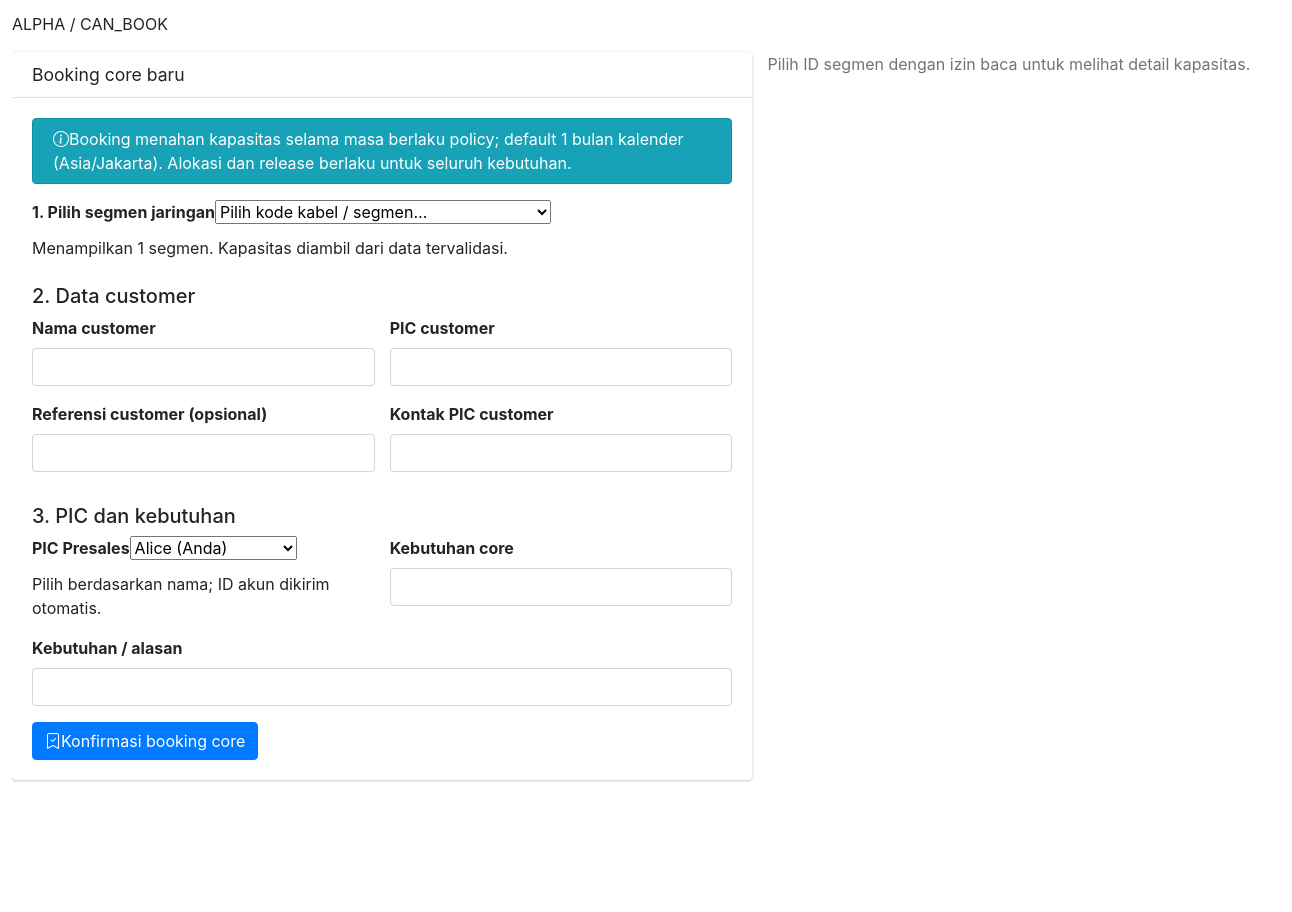
Test: operational API interactions › refreshes core counters after booking and sends the selected Presales PIC
Select "SEG-1 · Imported label · Tersedia: 24 core" in the dropdown labelled "1. Pilih segmen jaringan". click: (383, 212)
box: [215,200,551,224]
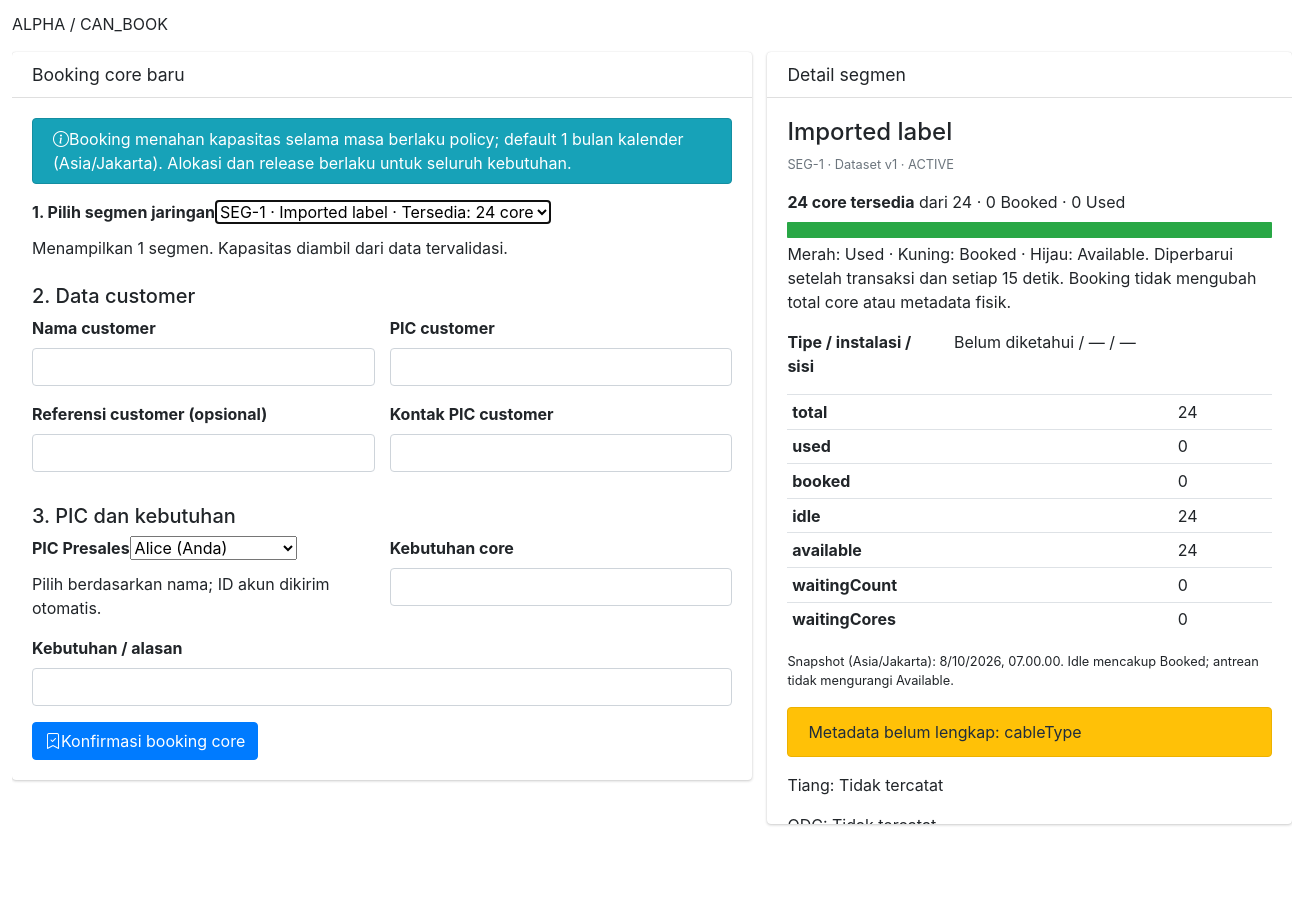
expect the text "24 core tersedia" is shown: met, box [787,192,914,212]
Select "Charlie" in the dropdown labelled "PIC Presales". click: (213, 548)
box: [130,536,297,560]
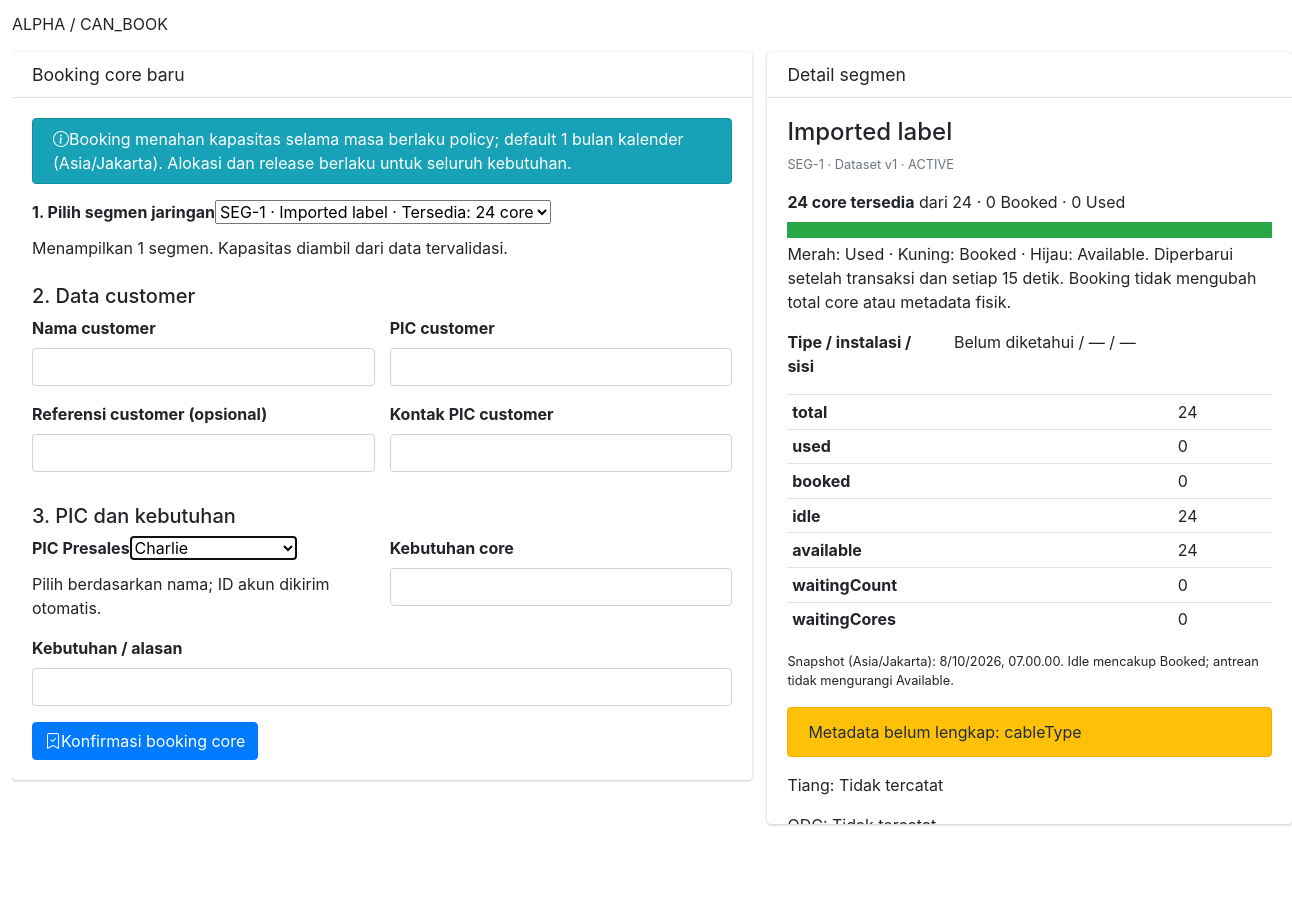
Type "Synthetic test" into the field labelled "Nama customer". click: (203, 367)
box: [32,348,375,386]
Type "Synthetic test" into the field labelled "PIC customer". click: (561, 367)
box: [390,348,732,386]
Type "Synthetic test" into the field labelled "Kontak PIC customer". click: (561, 453)
box: [390,434,732,472]
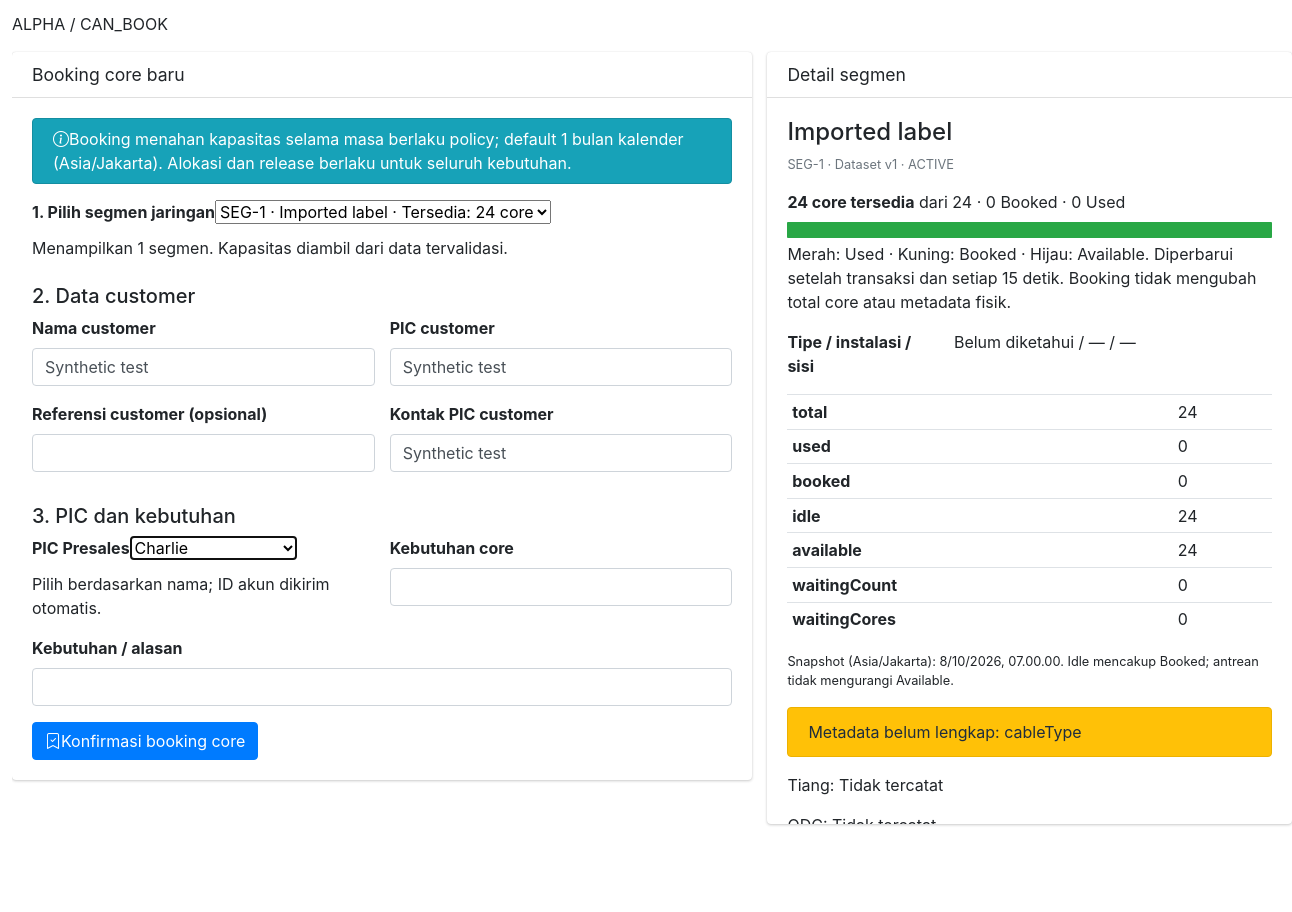
Type "Synthetic test" into the field labelled "Kebutuhan / alasan". click: (382, 687)
box: [32,668,732,706]
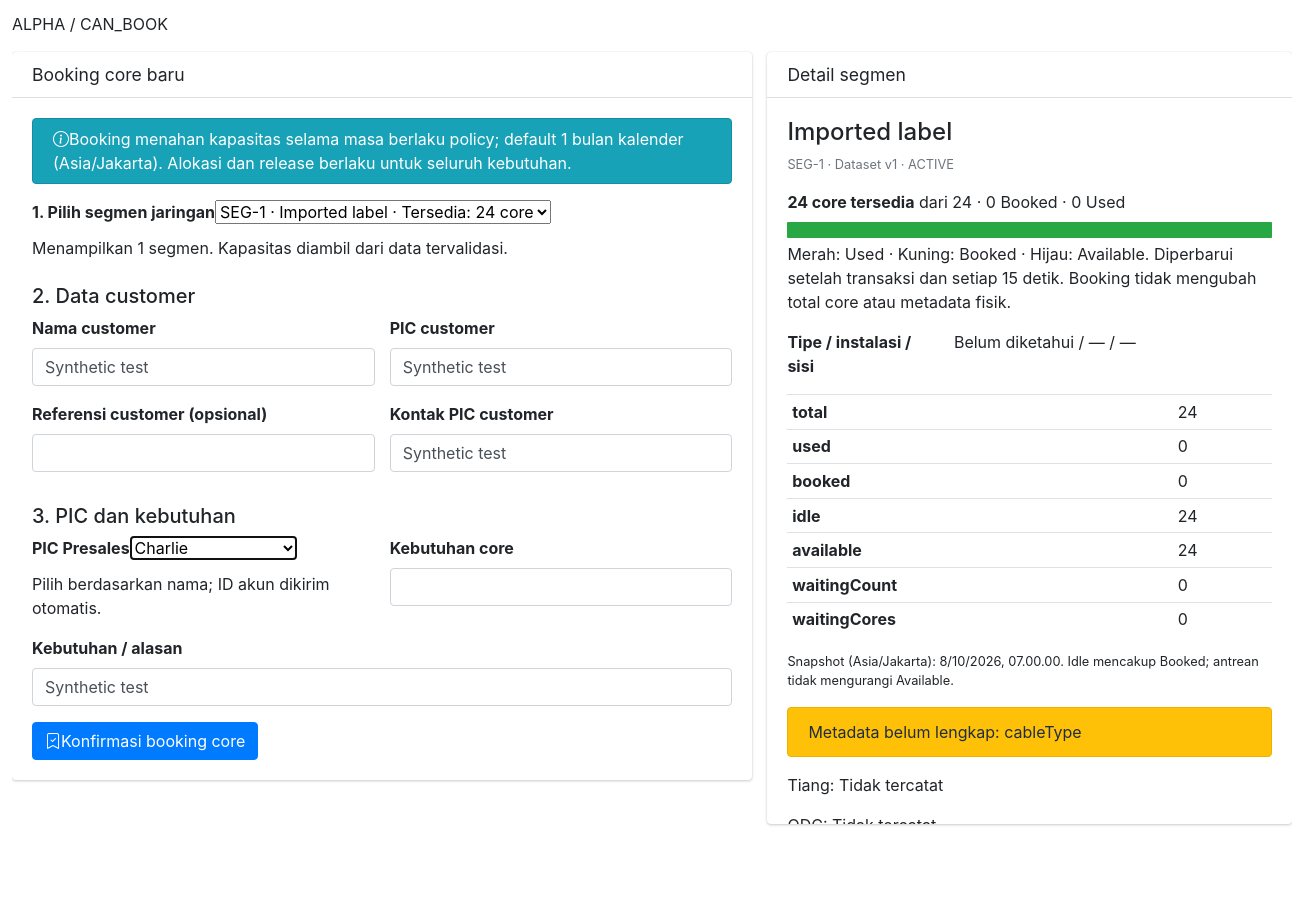
Type "2" into the number field labelled "Kebutuhan core". click: (561, 587)
box: [390,568,732,606]
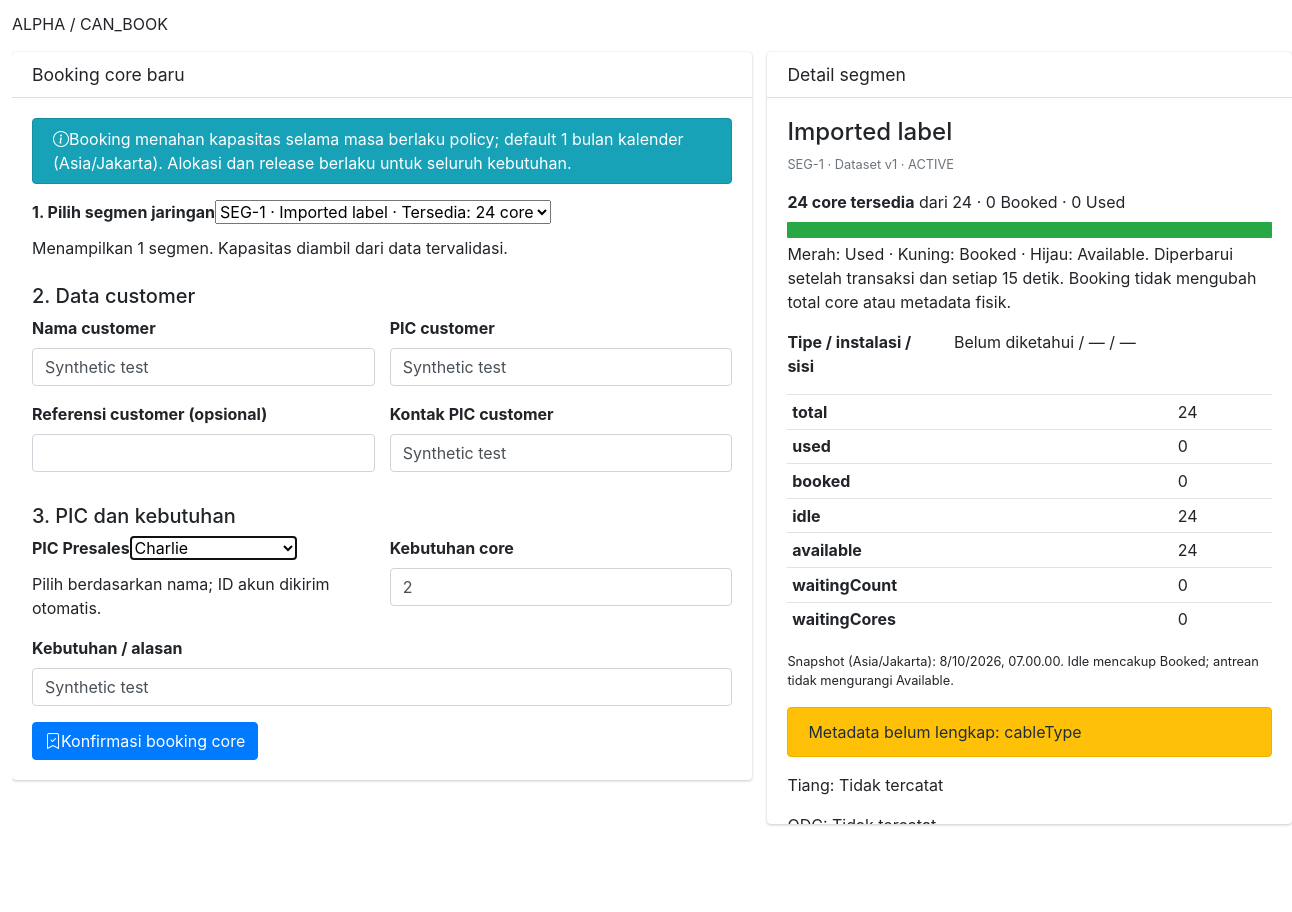
Click the button "Konfirmasi booking core". click: (145, 741)
box: [32,722,258,760]
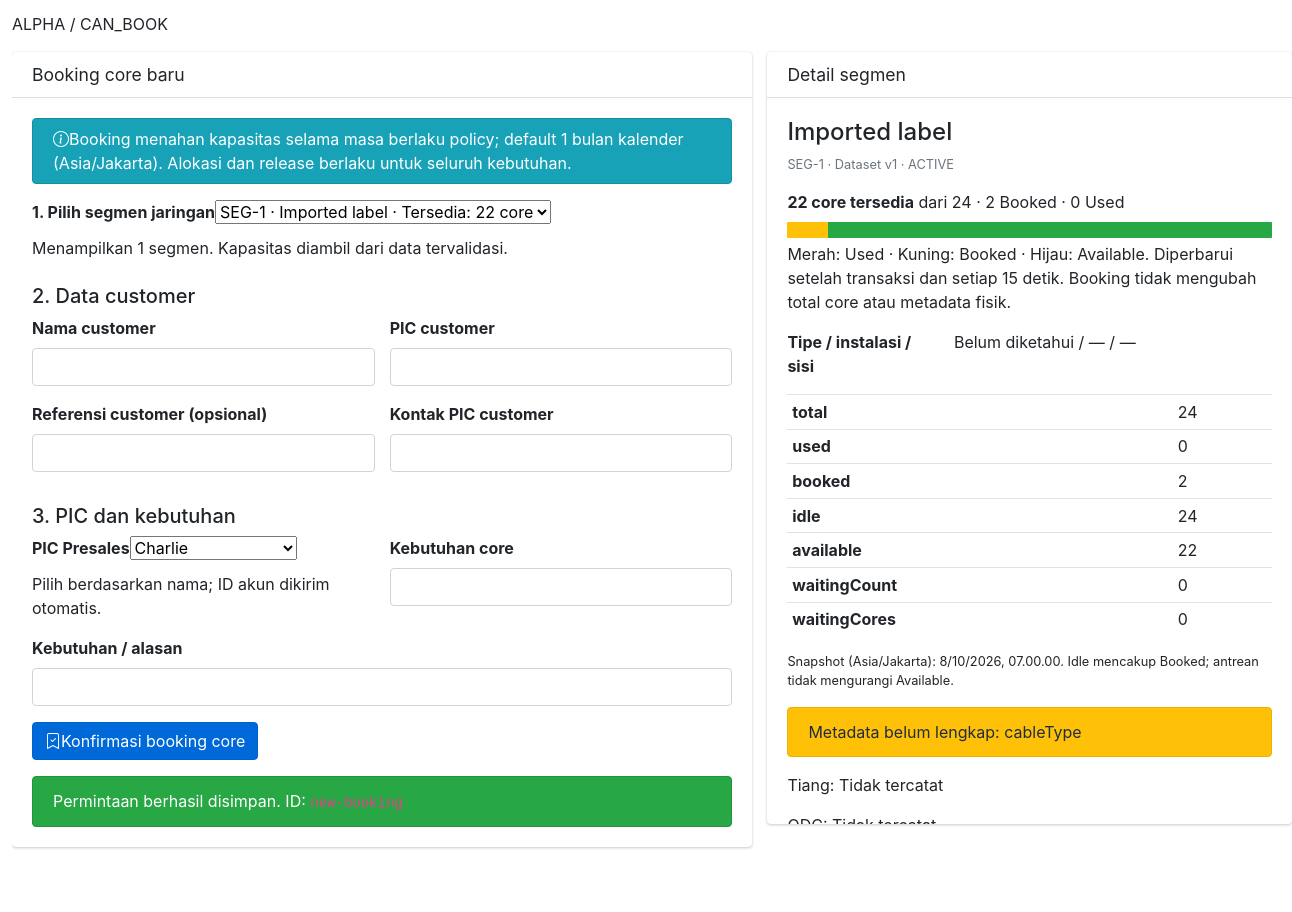
expect the text "22 core tersedia" is shown: met, box [787,192,914,212]
expect the picture named "Total 24, Used 0, Booked 2, Available 22" is shown: met, box [787,222,1272,238]
